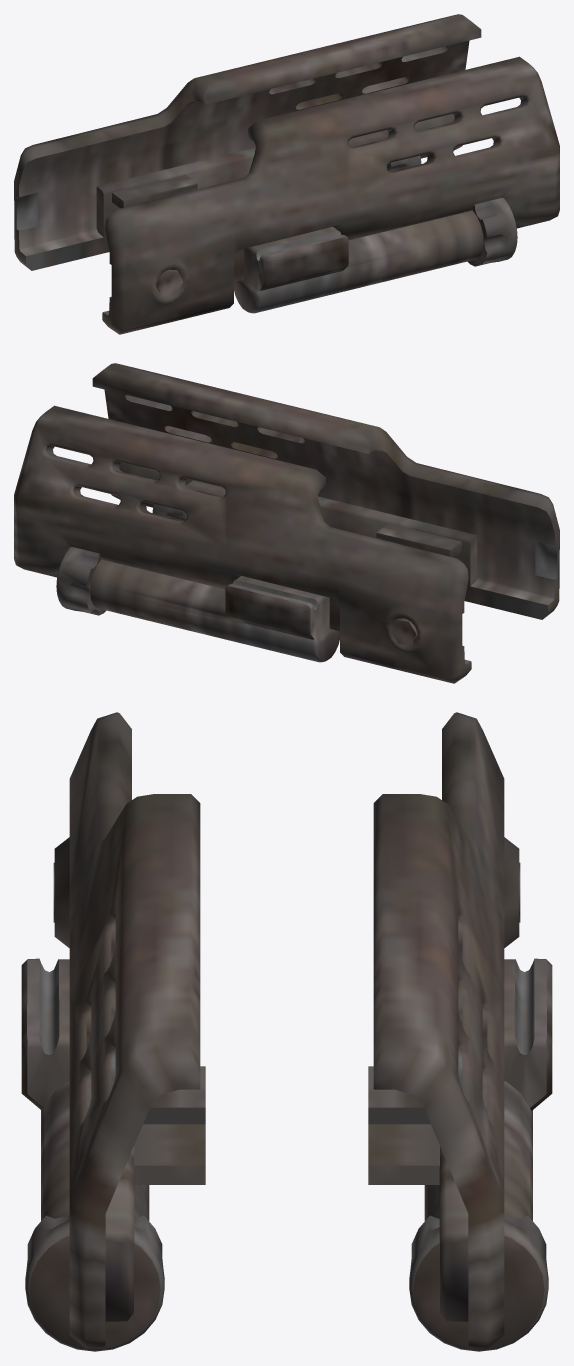
The model's file is HeavyWeapons_Vladof_Barrel_Strack_Acc_1.obj.
3 views of the same model, one above another, from view 1: azimuth 30°, elevation 25°; view 2: azimuth 150°, elevation 25°; view 3: azimuth 270°, elevation 25° (orthographic). The views are drawn at different scales.
Visible parts, largest first — view 1: Gruppa_acc_1_shield_2_SK_HW_VLA.096, Gruppa_acc_1_shield_1_SK_HW_VLA.095, Gruppa_acc_1_compensator_2_SK_HW_VLA.088, Gruppa_acc_1_compensator_2_cap_SK_HW_VLA.100, Gruppa_acc_1_shield_1_support_3_SK_HW_VLA.091, Gruppa_acc_1_shield_2_bolt_SK_HW_VLA.097; view 2: Gruppa_acc_1_shield_1_SK_HW_VLA.095, Gruppa_acc_1_shield_2_SK_HW_VLA.096, Gruppa_acc_1_compensator_1_SK_HW_VLA.087, Gruppa_acc_1_compensator_1_cap_SK_HW_VLA.099, Gruppa_acc_1_shield_2_support_3_SK_HW_VLA.094, Gruppa_acc_1_shield_1_bolt_SK_HW_VLA.098; view 3: Gruppa_acc_1_shield_1_SK_HW_VLA.095, Gruppa_acc_1_shield_2_SK_HW_VLA.096, Gruppa_acc_1_compensator_1_SK_HW_VLA.087, Gruppa_acc_1_compensator_2_SK_HW_VLA.088, Gruppa_acc_1_compensator_1_cap_SK_HW_VLA.099, Gruppa_acc_1_compensator_2_cap_SK_HW_VLA.100, Gruppa_acc_1_shield_1_support_1_SK_HW_VLA.089, Gruppa_acc_1_shield_2_support_1.001_SK_HW_VLA.092, Gruppa_acc_1_shield_1_support_2_SK_HW_VLA.090, Gruppa_acc_1_shield_2_support_2_SK_HW_VLA.093.
Part boxes in pixels (x1,y1,x2,y2): Gruppa_acc_1_shield_2_SK_HW_VLA.096: (102, 56, 559, 334); Gruppa_acc_1_shield_1_SK_HW_VLA.095: (14, 14, 481, 270); Gruppa_acc_1_compensator_2_SK_HW_VLA.088: (234, 210, 483, 313); Gruppa_acc_1_compensator_2_cap_SK_HW_VLA.100: (467, 198, 517, 266); Gruppa_acc_1_shield_1_support_3_SK_HW_VLA.091: (112, 174, 197, 208); Gruppa_acc_1_shield_2_bolt_SK_HW_VLA.097: (156, 269, 183, 296); Gruppa_acc_1_shield_1_SK_HW_VLA.095: (14, 405, 471, 683); Gruppa_acc_1_shield_2_SK_HW_VLA.096: (92, 363, 559, 619); Gruppa_acc_1_compensator_1_SK_HW_VLA.087: (90, 559, 339, 662); Gruppa_acc_1_compensator_1_cap_SK_HW_VLA.099: (56, 547, 106, 615); Gruppa_acc_1_shield_2_support_3_SK_HW_VLA.094: (376, 523, 461, 557); Gruppa_acc_1_shield_1_bolt_SK_HW_VLA.098: (390, 618, 417, 645); Gruppa_acc_1_shield_1_SK_HW_VLA.095: (373, 712, 519, 1348); Gruppa_acc_1_shield_2_SK_HW_VLA.096: (54, 712, 200, 1348); Gruppa_acc_1_compensator_1_SK_HW_VLA.087: (424, 958, 552, 1220); Gruppa_acc_1_compensator_2_SK_HW_VLA.088: (21, 958, 149, 1220); Gruppa_acc_1_compensator_1_cap_SK_HW_VLA.099: (409, 1214, 548, 1351); Gruppa_acc_1_compensator_2_cap_SK_HW_VLA.100: (25, 1214, 164, 1351); Gruppa_acc_1_shield_1_support_1_SK_HW_VLA.089: (368, 1124, 439, 1184); Gruppa_acc_1_shield_2_support_1.001_SK_HW_VLA.092: (134, 1124, 205, 1184); Gruppa_acc_1_shield_1_support_2_SK_HW_VLA.090: (368, 1066, 430, 1124); Gruppa_acc_1_shield_2_support_2_SK_HW_VLA.093: (143, 1066, 205, 1124).
Size of the model in its own units: 38.84 by 14.36 by 20.03.
